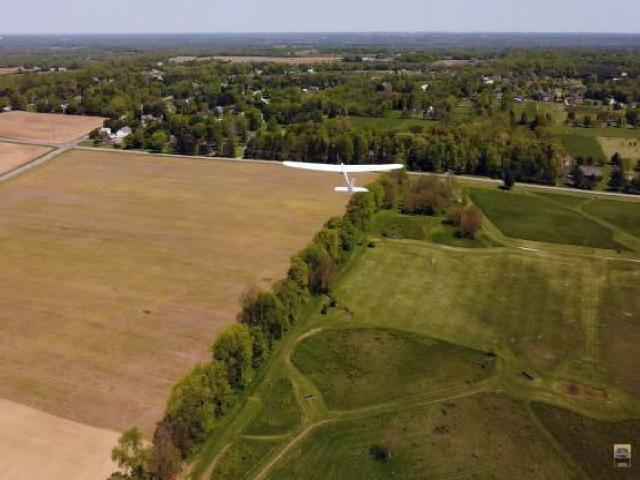uav: (279, 151, 412, 200)
